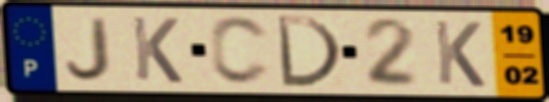2: (360, 16, 421, 90)
C: (207, 14, 274, 88)
D: (272, 13, 346, 90)
J: (62, 15, 113, 83)
K: (128, 14, 186, 86), (431, 18, 488, 90)
